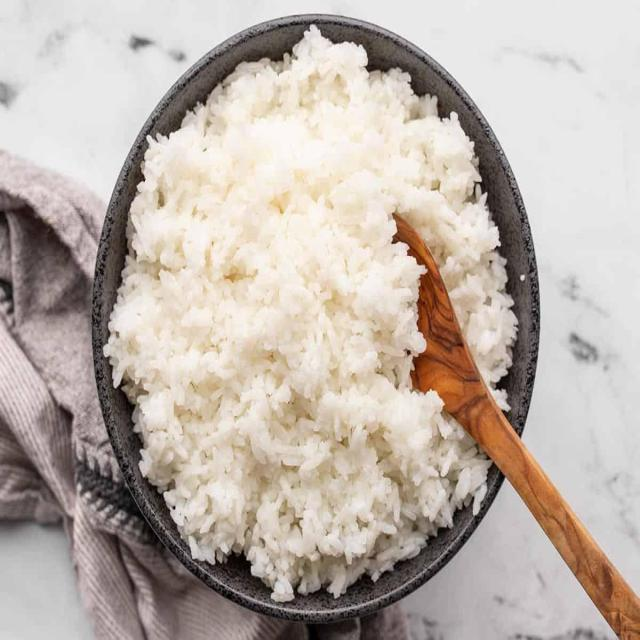rice: (115, 45, 511, 601)
